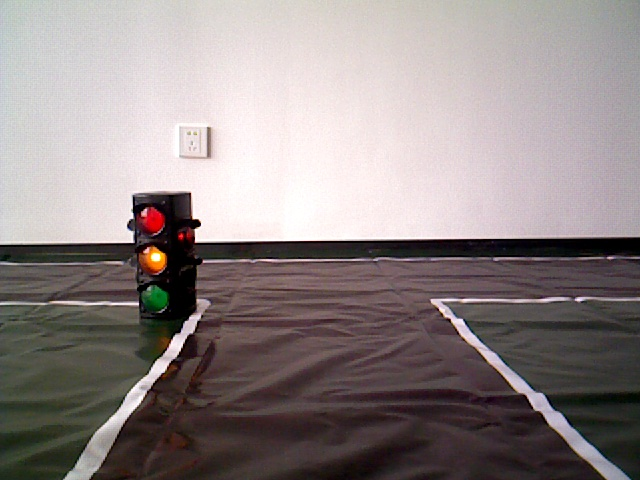yellow: (135, 195, 191, 320)
